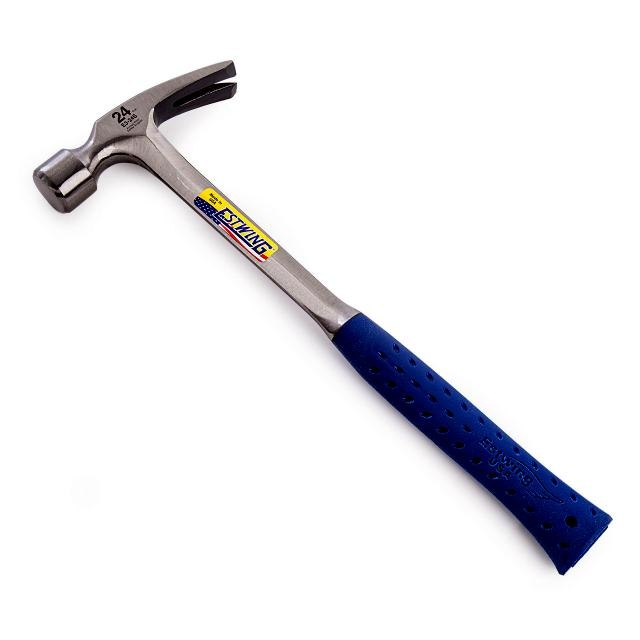hammer: (27, 55, 617, 583)
